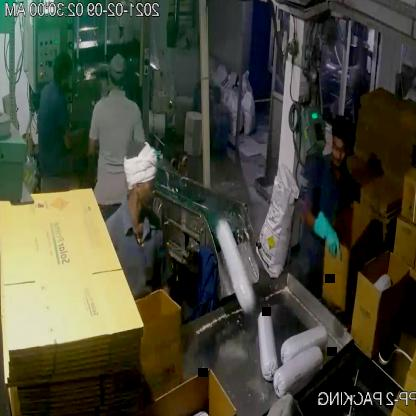glove: (305, 208, 342, 263)
